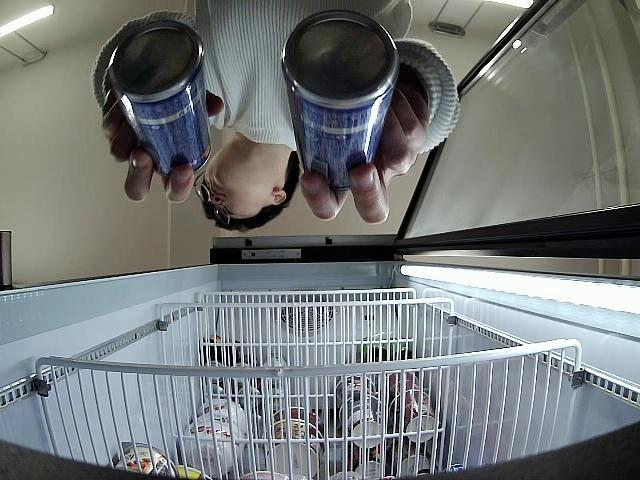16_hot6: (281, 10, 398, 191), (110, 21, 212, 178)
